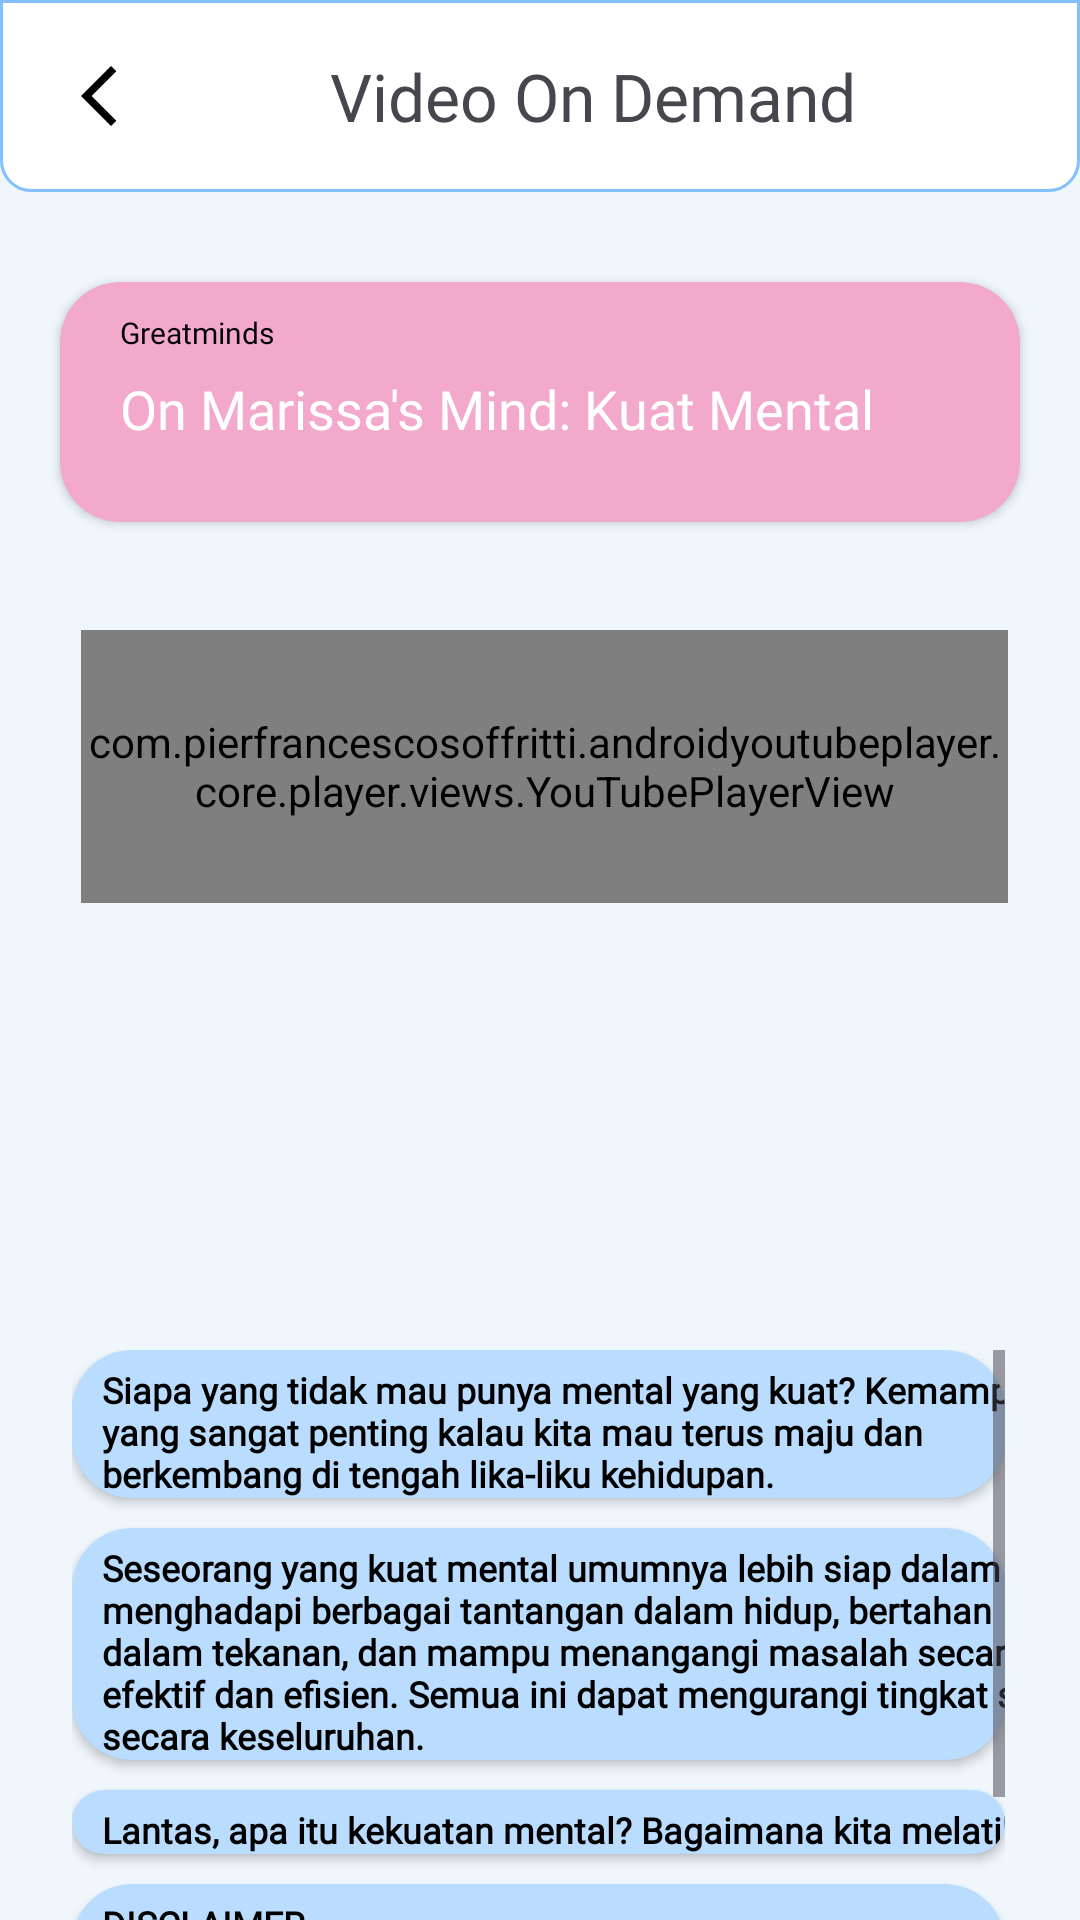

Icons on this 1080x1920 Android screen, each with the point to tap as (x,y):
kembali: (98,96)
